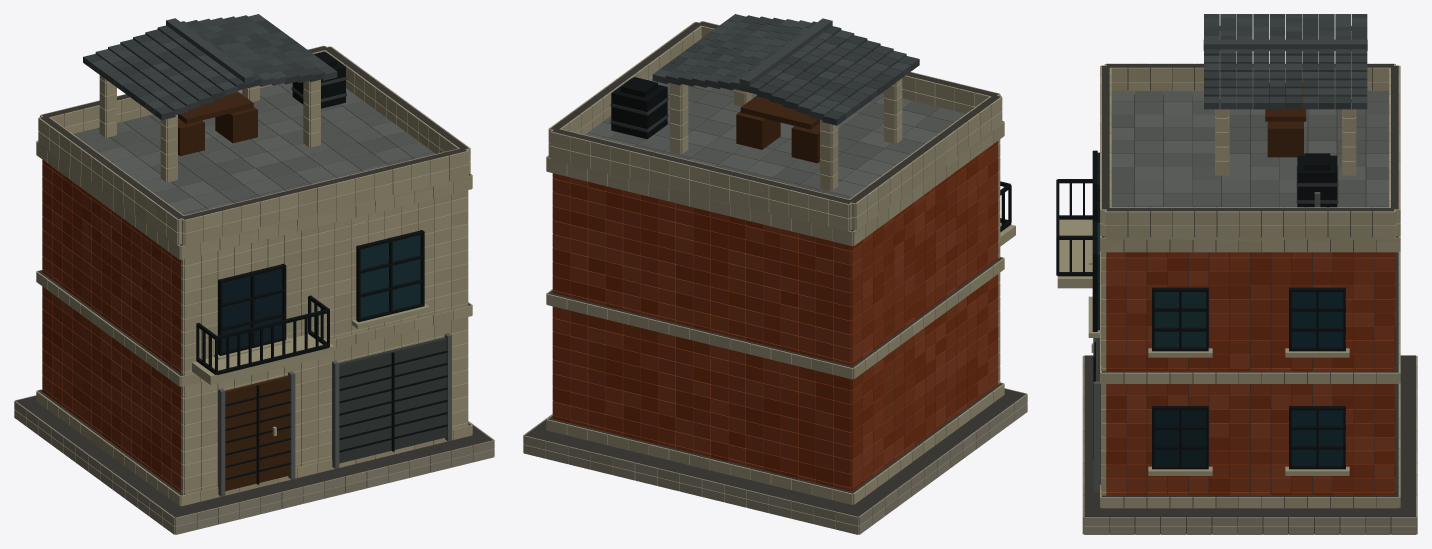
File: SM_Mapa_050.fbx
3 views of the same model, side by side, from view 1: azimuth 30°, elevation 25°; view 2: azimuth 150°, elevation 25°; view 3: azimuth 270°, elevation 25° (orthographic). The views are drawn at different scales.
Visible parts, largest first — view 1: SM_Mapa_050; view 2: SM_Mapa_050; view 3: SM_Mapa_050.
Part boxes in pixels (x1,y1,x2,y2): SM_Mapa_050: (14,14,494,534); SM_Mapa_050: (523,14,1027,534); SM_Mapa_050: (1056,14,1417,534).
Size of the model in its own units: 8 by 7.53 by 9.15.
